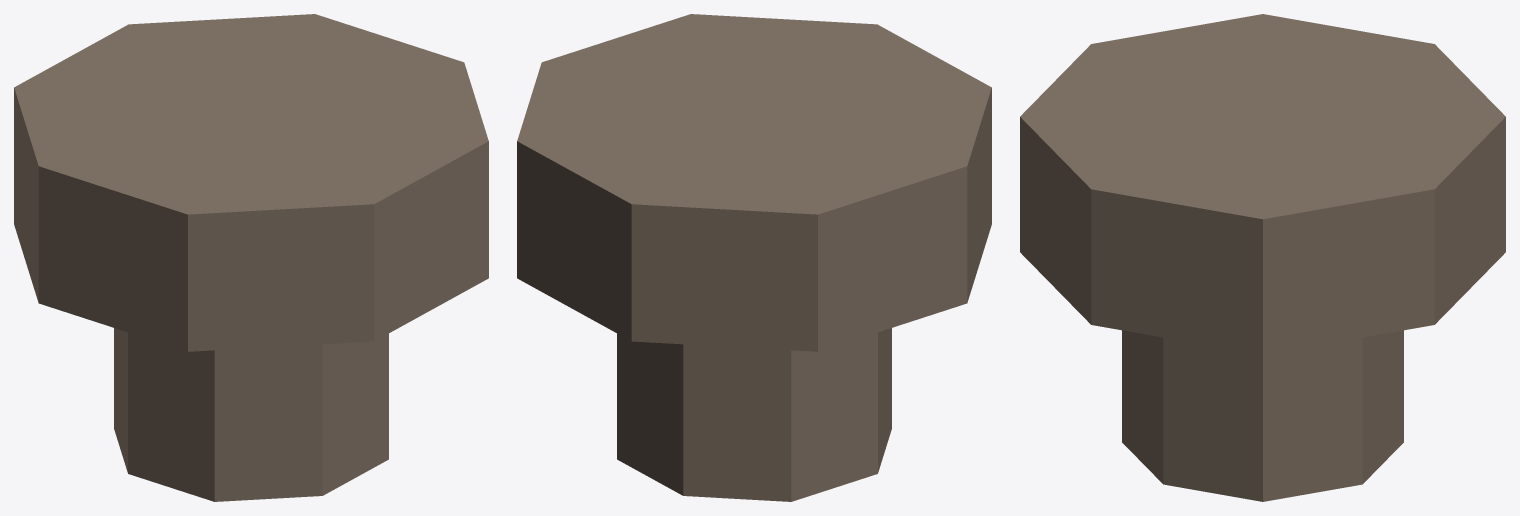
The model's file is Plumbing1_C3_03.fbx.
The picture shows the model from 3 angles, left to right: view 1: azimuth 30°, elevation 25°; view 2: azimuth 150°, elevation 25°; view 3: azimuth 270°, elevation 25°; orthographic projection.
Visible parts, largest first — view 1: Plumbing1_C3_03; view 2: Plumbing1_C3_03; view 3: Plumbing1_C3_03.
Boxes of the visible parts, bbox=[...] form: Plumbing1_C3_03: bbox=[14, 14, 488, 501]; Plumbing1_C3_03: bbox=[517, 14, 991, 501]; Plumbing1_C3_03: bbox=[1020, 14, 1505, 501].
Size of the model in its own units: 2.73 by 2.02 by 2.73.
